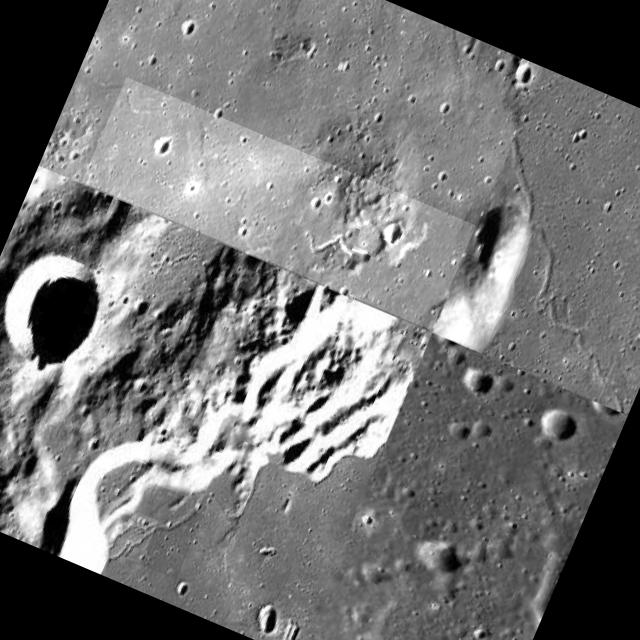rille: (81, 77, 475, 330), (432, 67, 640, 413), (124, 484, 206, 579), (104, 506, 158, 564), (109, 536, 132, 564)
